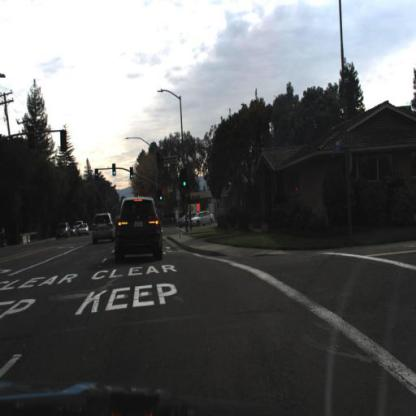car: (115, 195, 163, 263), (91, 212, 115, 248), (187, 210, 216, 228), (56, 222, 71, 242), (77, 223, 89, 237)
trafficLight-Green: (182, 173, 187, 191), (113, 163, 118, 176), (160, 190, 164, 203), (130, 166, 134, 179)
trafficLight-GreenLeft: (95, 168, 100, 184)
